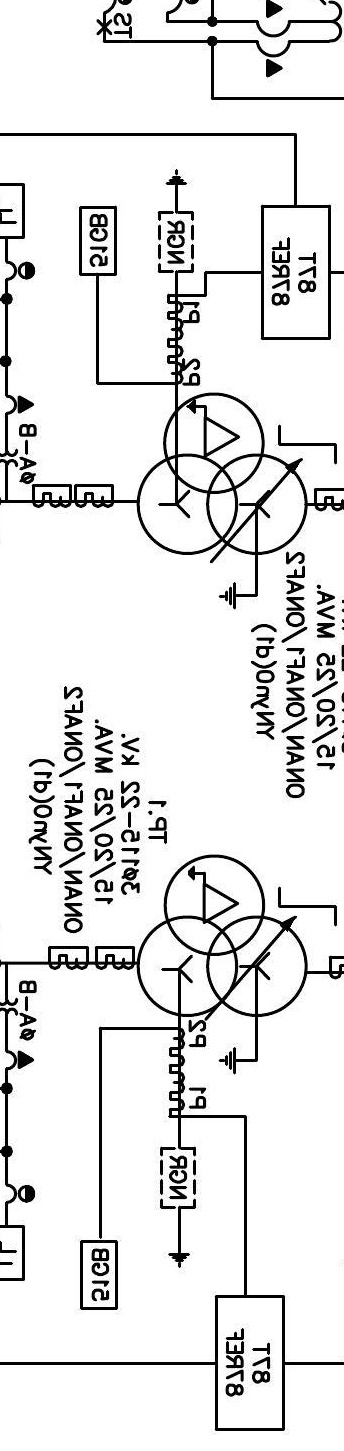11522_tx_ynyn0d1: (135, 853, 309, 1018), (135, 391, 309, 556)
NGR_future: (159, 1146, 197, 1268), (157, 168, 194, 274)
